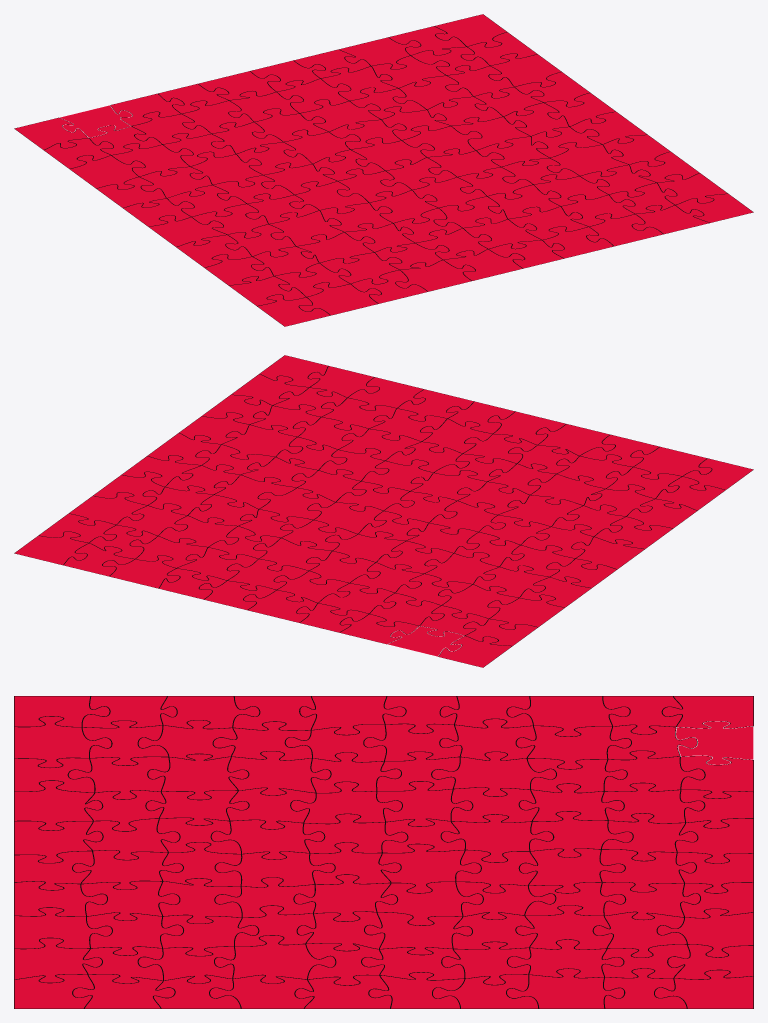
3 renders of one model, top to bottom at view 1: azimuth 30°, elevation 25°; view 2: azimuth 150°, elevation 25°; view 3: azimuth 270°, elevation 25°, orthographic. The views are drawn at different scales.
Parts seen in each view (by area): view 1: Plane.039, Plane.033, Plane.071, Plane.001, Plane.063, Plane.072, Plane.080, Plane.056, Plane.004, Plane.065, Plane.058, Plane.076 (+88 smaller); view 2: Plane.039, Plane.071, Plane.001, Plane.033, Plane.063, Plane.072, Plane.080, Plane.056, Plane.065, Plane.004, Plane.076, Plane.058 (+88 smaller); view 3: Plane.039, Plane.063, Plane.071, Plane.072, Plane.033, Plane.001, Plane.080, Plane.065, Plane.004, Plane.056, Plane.076, Plane.058 (+88 smaller).
Boxes of the visible parts, <box> form: Plane.039: <box>547,142,628,176</box>; Plane.033: <box>269,210,344,246</box>; Plane.071: <box>69,155,145,189</box>; Plane.001: <box>299,282,381,315</box>; Plane.063: <box>190,152,262,186</box>; Plane.072: <box>112,143,193,176</box>; Plane.080: <box>488,53,561,86</box>; Plane.056: <box>351,137,434,170</box>; Plane.004: <box>395,260,475,291</box>; Plane.065: <box>284,130,360,163</box>; Plane.058: <box>451,116,529,150</box>; Plane.076: <box>300,99,380,131</box>; Plane.039: <box>222,425,302,459</box>; Plane.071: <box>487,595,564,629</box>; Plane.001: <box>630,446,711,479</box>; Plane.033: <box>498,495,582,526</box>; Plane.063: <box>425,552,498,587</box>; Plane.072: <box>438,584,518,618</box>; Plane.080: <box>69,492,146,525</box>; Plane.056: <box>307,502,386,533</box>; Plane.065: <box>325,531,405,563</box>; Plane.004: <box>536,424,615,455</box>; Plane.076: <box>253,538,331,570</box>; Plane.058: <box>214,475,296,508</box>; Plane.039: <box>214,935,335,983</box>; Plane.063: <box>431,751,556,796</box>; Plane.071: <box>507,696,630,736</box>; Plane.072: <box>516,726,631,769</box>; Plane.033: <box>227,751,330,795</box>; Plane.001: <box>14,716,111,767</box>; Plane.080: <box>506,968,624,1008</box>; Plane.065: <box>441,814,553,862</box>; Plane.004: <box>14,780,102,830</box>; Plane.056: <box>379,844,481,893</box>; Plane.076: <box>519,848,625,893</box>; Plane.058: <box>364,912,472,954</box>.
Bounding box in the file's own units: 1000 × 0.000163 × 1000.
